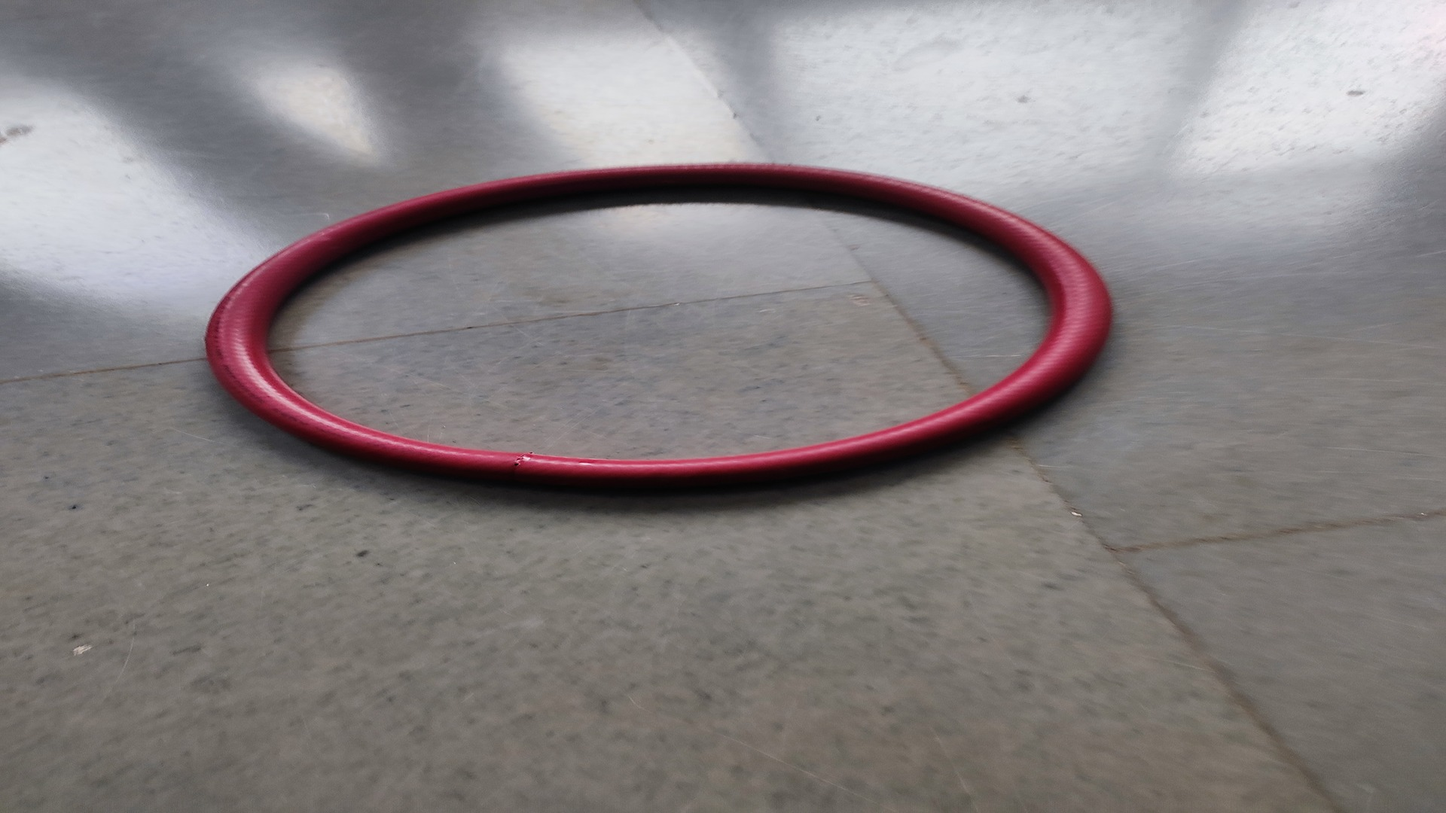Red ring: (200, 162, 1107, 477)
